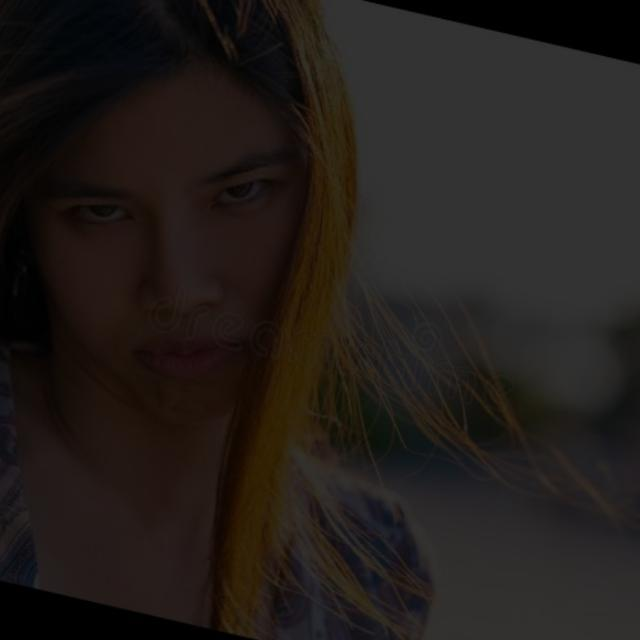Angry: (20, 52, 381, 424)
